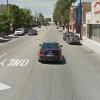Car: (35, 39, 65, 68)
